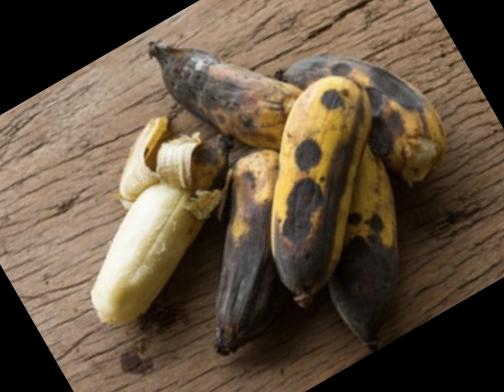Banana Overripe: (44, 0, 448, 392)
